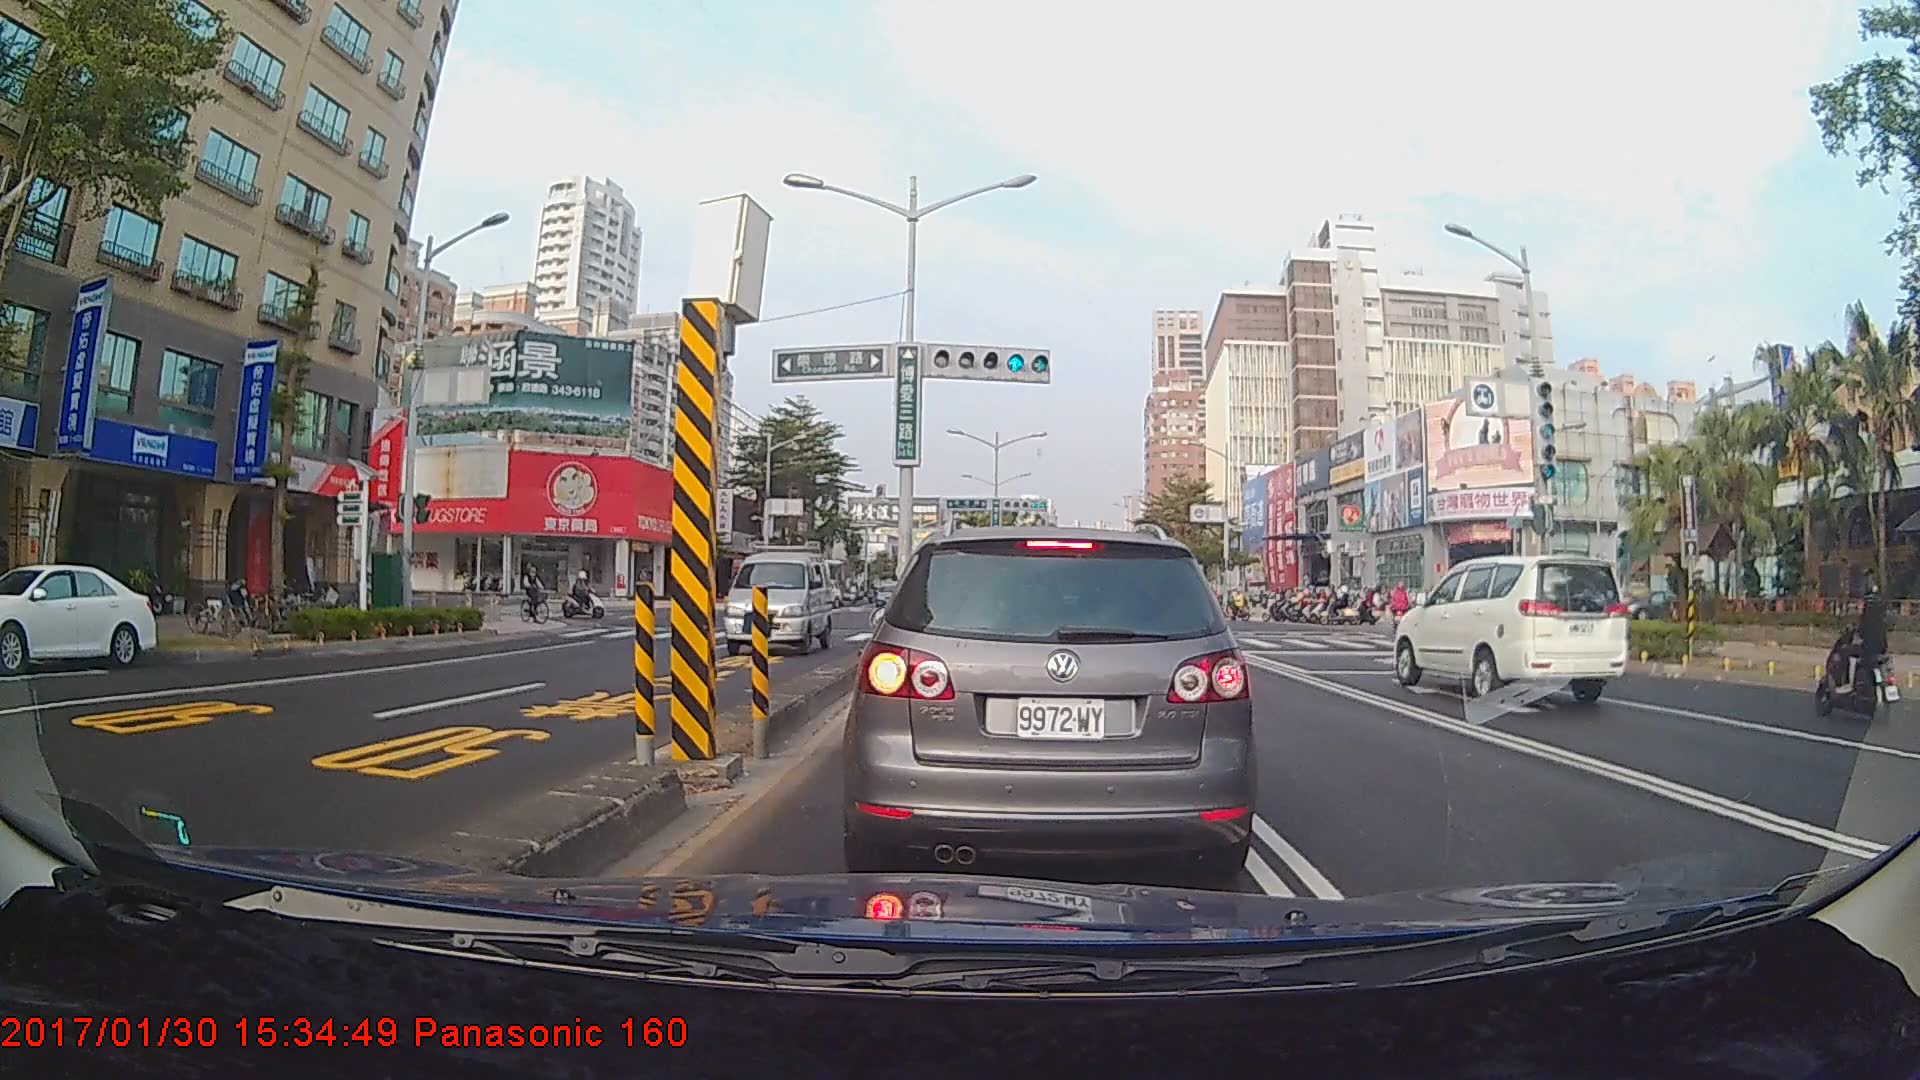rider: (1811, 571, 1899, 725), (563, 568, 614, 625), (518, 559, 556, 629), (1389, 580, 1413, 640)
vehicle: (852, 523, 1249, 882), (1392, 552, 1630, 704), (0, 561, 159, 671), (720, 538, 834, 656)
